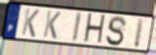H: (82, 13, 107, 47)
I: (132, 17, 146, 49), (71, 11, 83, 44)
K: (20, 7, 41, 39), (42, 9, 62, 41)
S: (105, 15, 128, 48)
